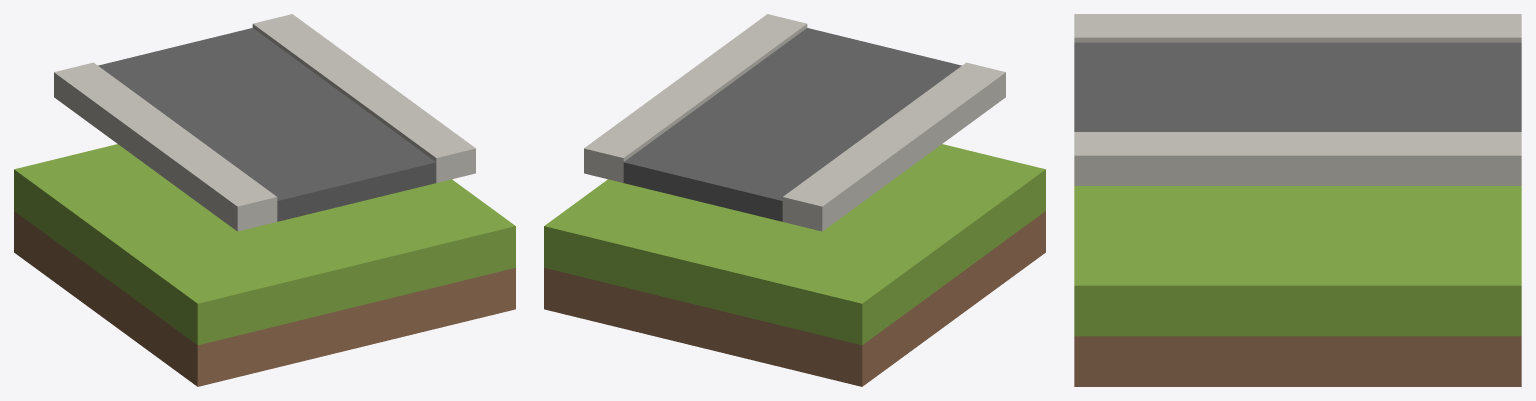
File: road-bridge-grass.obj
The picture shows the model from 3 angles, left to right: view 1: azimuth 30°, elevation 25°; view 2: azimuth 150°, elevation 25°; view 3: azimuth 270°, elevation 25°; orthographic projection. The views are drawn at different scales.
Parts seen in each view (by area): view 1: road-bridge-grass_Cube.198; view 2: road-bridge-grass_Cube.198; view 3: road-bridge-grass_Cube.198.
Boxes of the visible parts, x1,y1,x2,y2 form: road-bridge-grass_Cube.198: (14,14,515,386); road-bridge-grass_Cube.198: (544,14,1045,386); road-bridge-grass_Cube.198: (1074,14,1521,386).
Size of the model in its own units: 8 by 4.1 by 8.
Materials: 1 (1 with a texture image).
